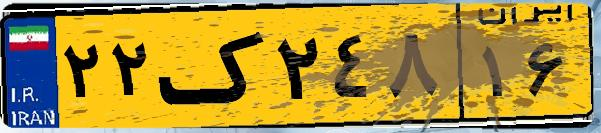1: (475, 38, 525, 113)
2: (270, 28, 330, 110), (57, 26, 110, 100), (110, 28, 158, 98)
4: (330, 28, 385, 110)
6: (525, 38, 570, 115)
8: (385, 28, 445, 110)
ک: (158, 12, 270, 120)
